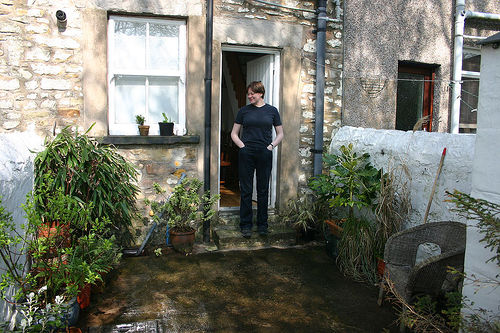without_mask: (247, 84, 266, 107)
